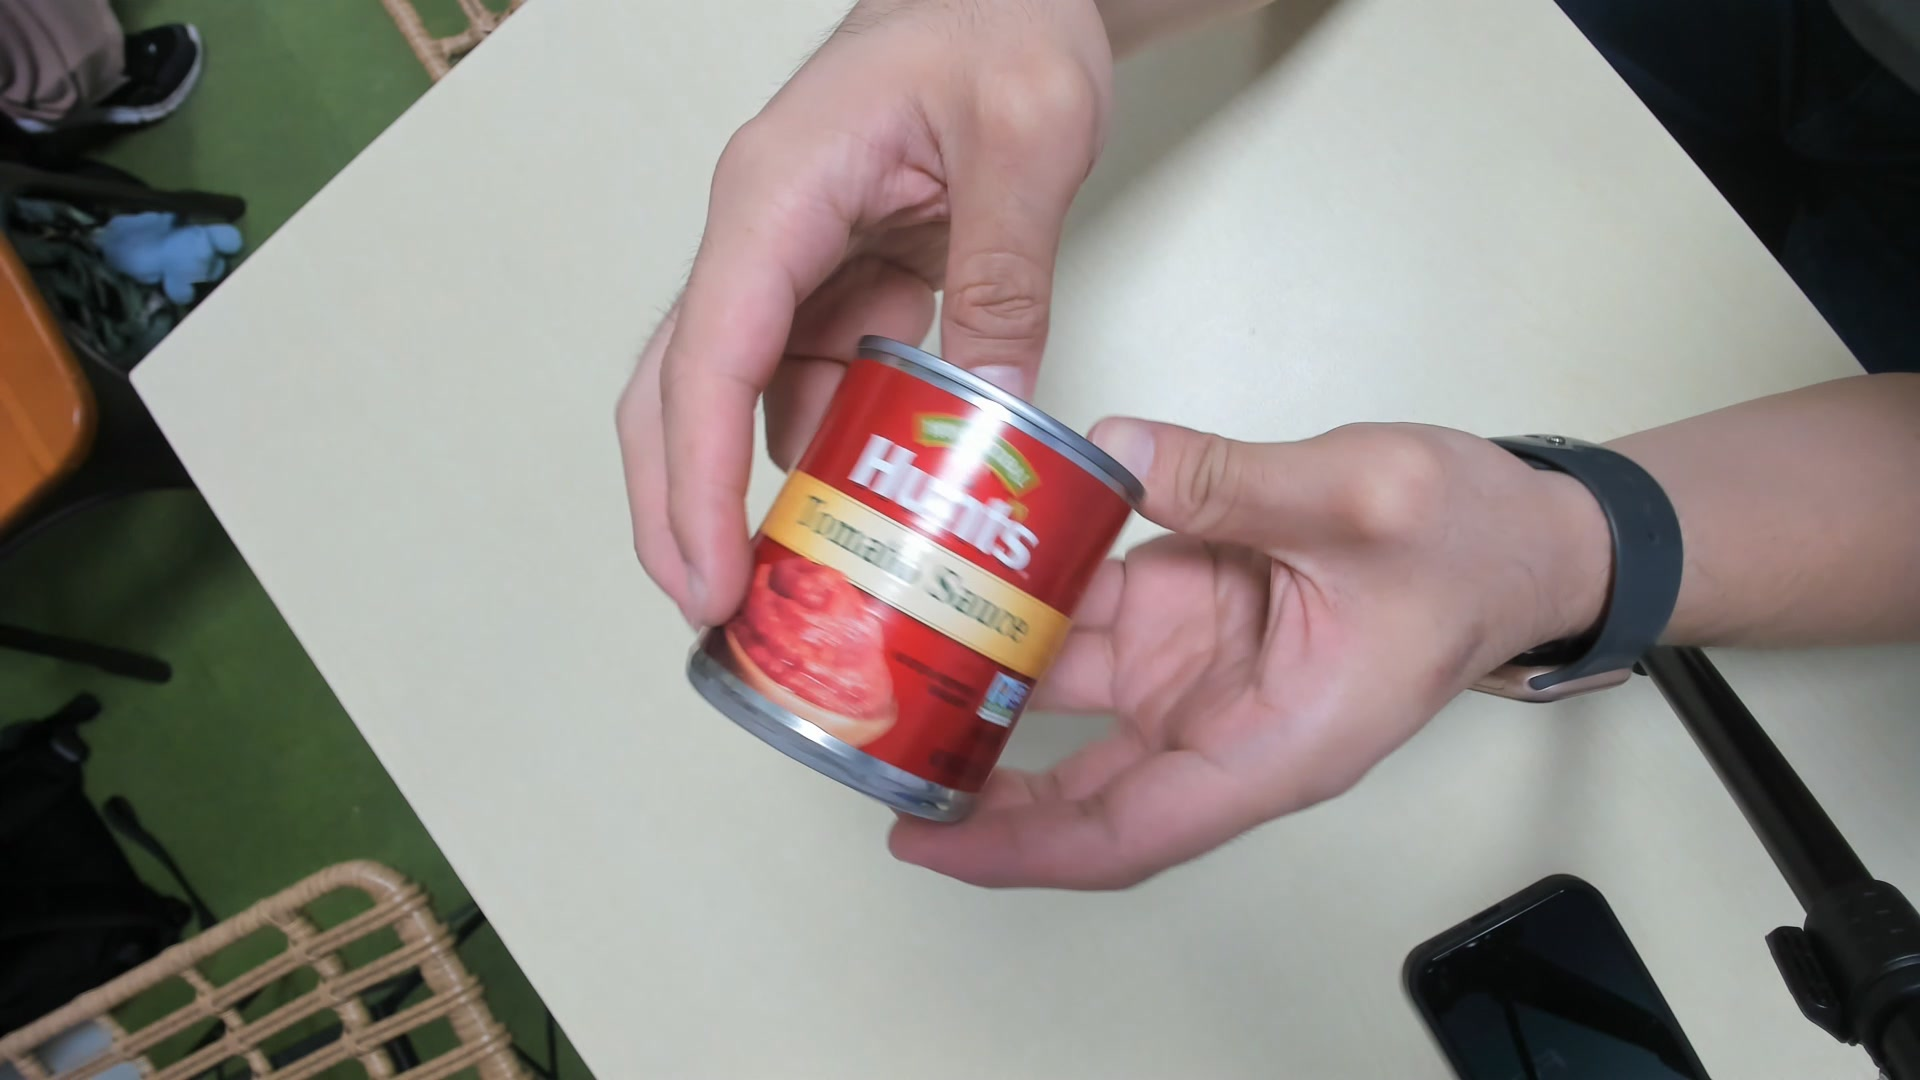OtherSauceDressing_200-299g_NonHalal_NonHealthy: (690, 326, 1153, 820)
